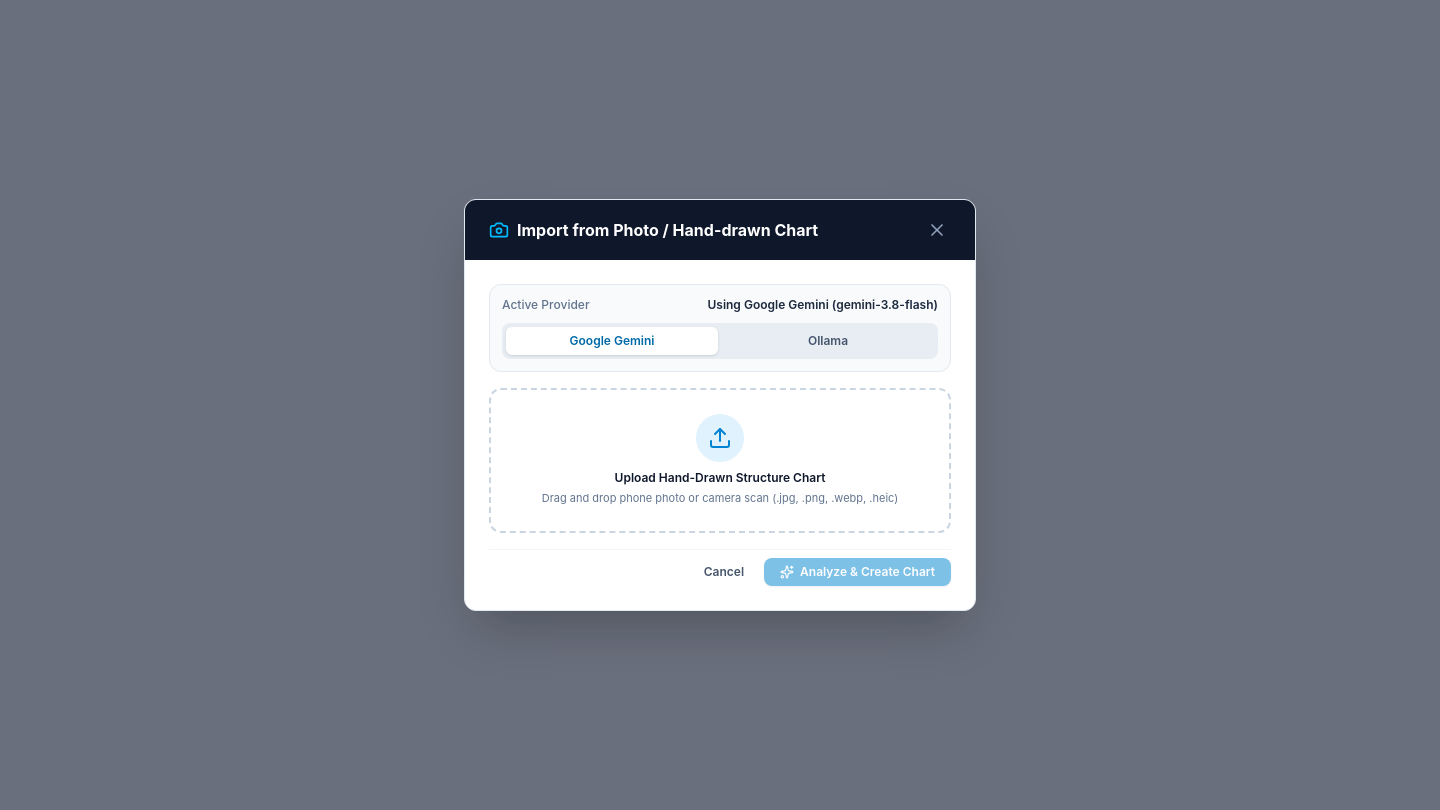
PhotoImportModal › Task 3: Provider Selection & Label UI › switches provider when clicked, updates status label, and persists selection
This screenshot has width=1440, height=810.
Click the radio button labelled "Ollama".
click(828, 341)  # box [722,327,934,355]
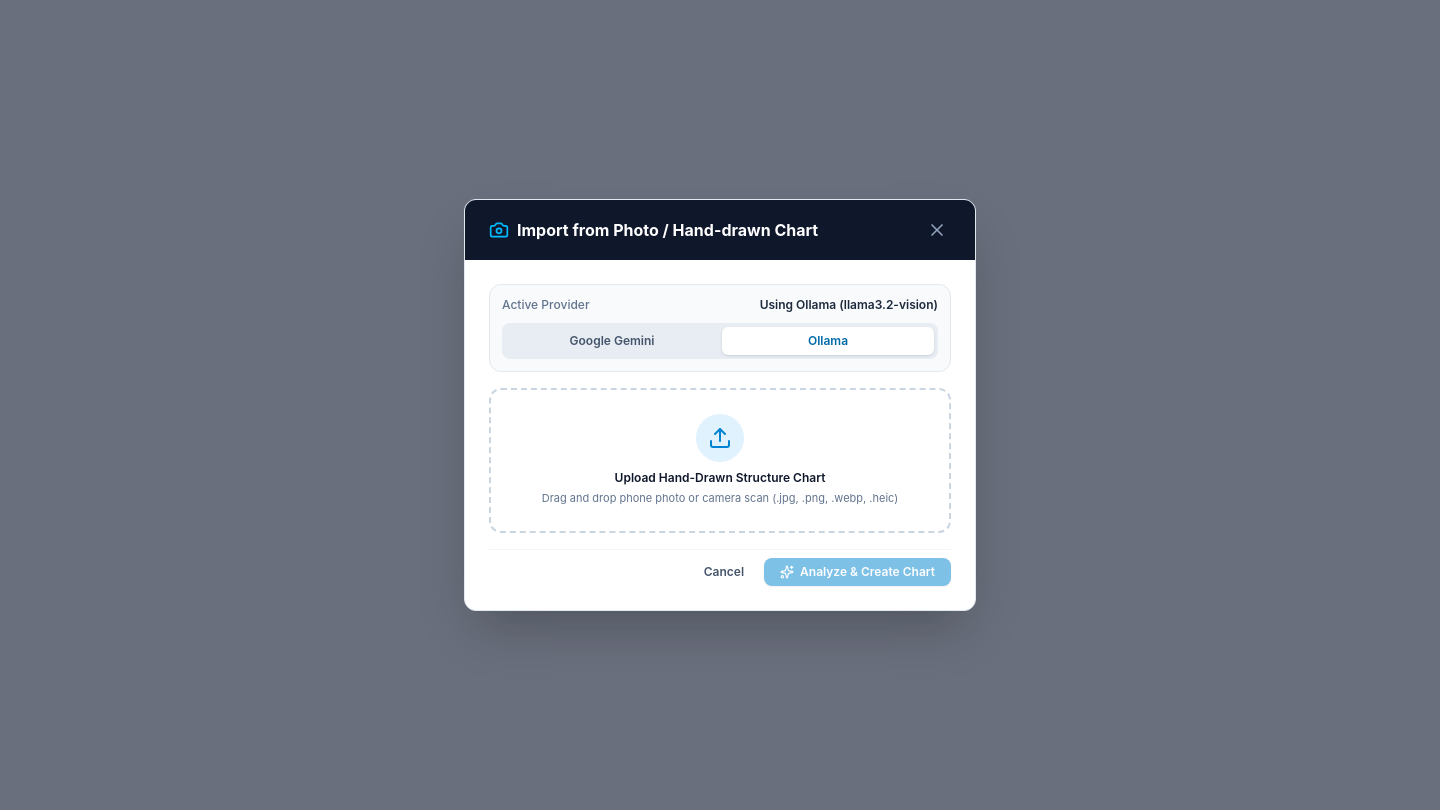
Expected: the text "Using Ollama (llama3.2-vision)" is shown, [760,297,938,313]
Click the radio button labelled "Google Gemini".
click(612, 341)  # box [506,327,718,355]
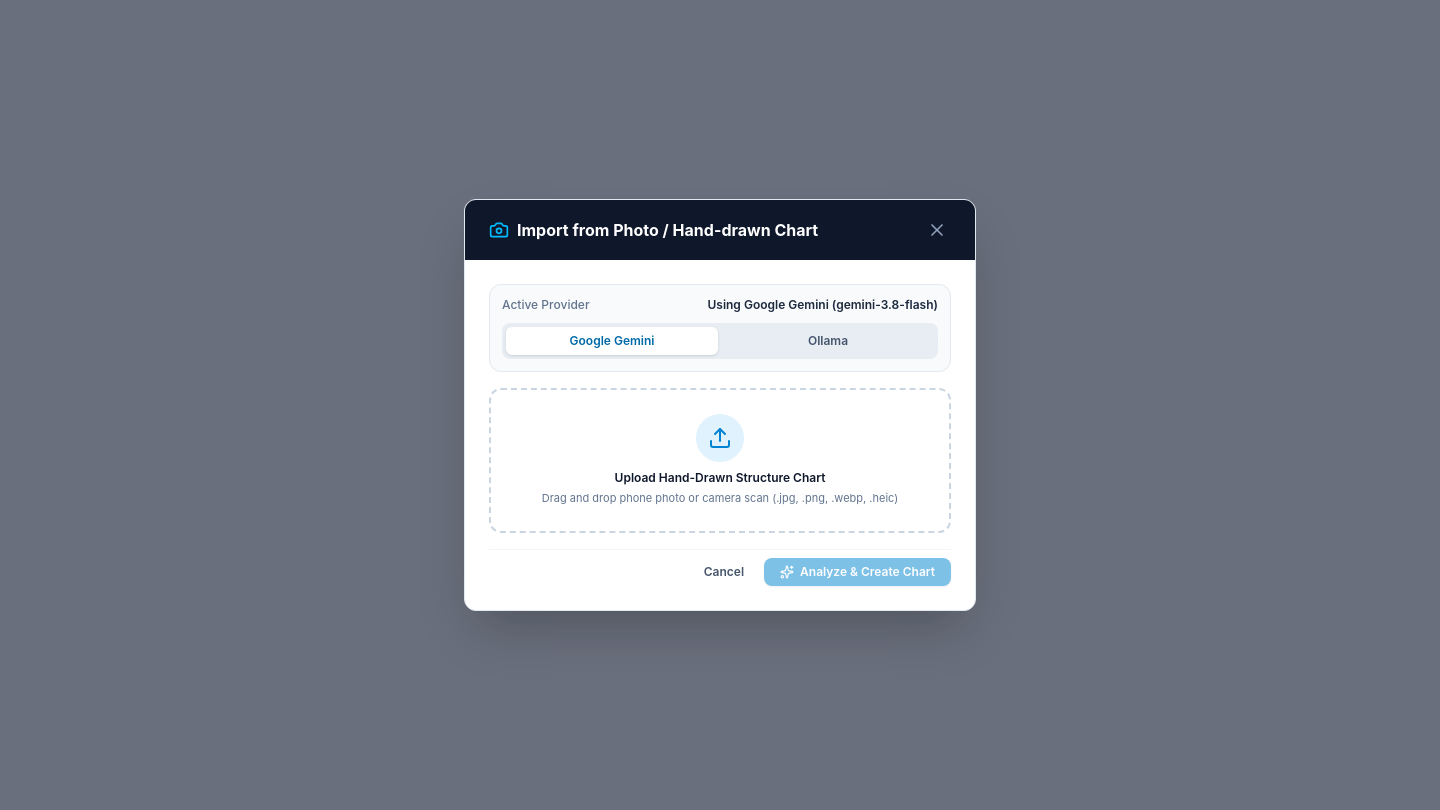
Expected: the text "Using Google Gemini (gemini-3.8-flash)" is shown, [708,297,938,313]
